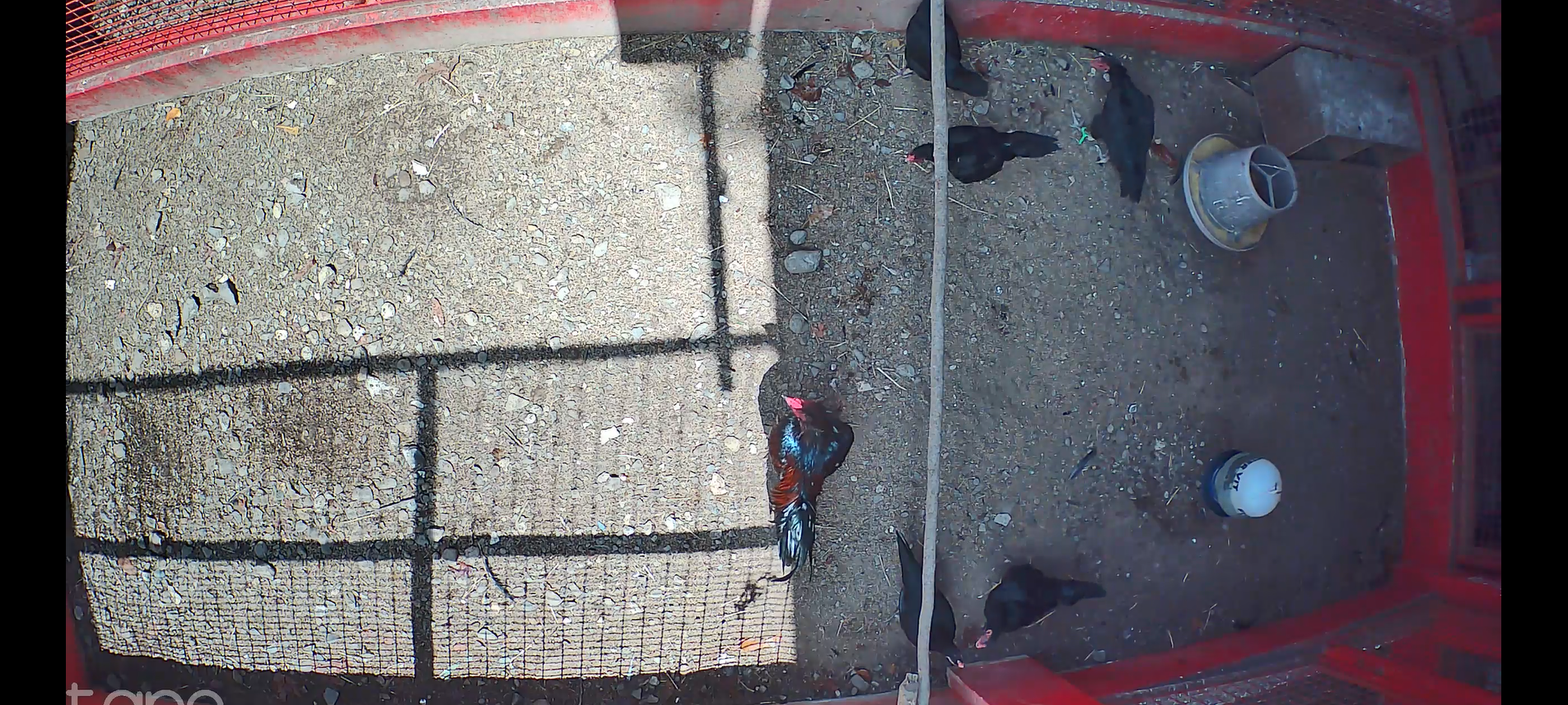Chicken: (1068, 52, 1159, 204), (876, 525, 970, 672), (965, 560, 1108, 651), (875, 2, 994, 102), (900, 123, 1064, 188)
Leg_Band_Green: (1078, 124, 1089, 146)
Rooster: (756, 387, 856, 581)
